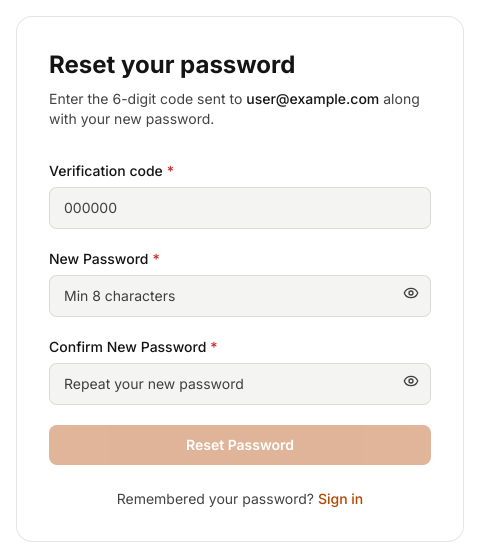
it: ResetPassword › sanitizes verification code input to numbers only and restricts submit button
Expected: the button "Reset Password" is disabled, [49,425,431,465]
Type "a1b2c3d" into the field labelled "Verification code*". click: (240, 208)
box: [49,187,431,229]
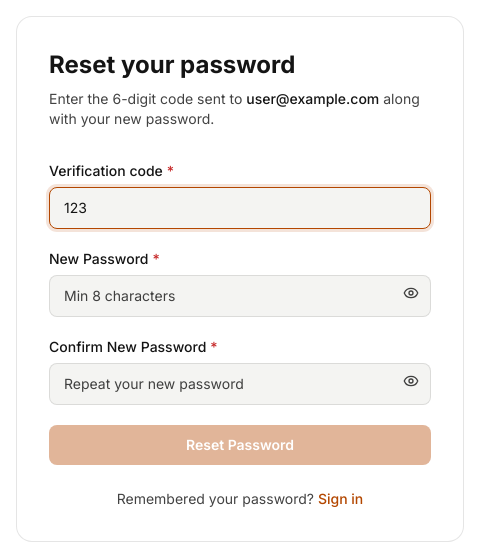
Expected: the button "Reset Password" is disabled, [49,425,431,465]
Expected: the field labelled "Verification code*" holds "123"
Type "456" into the field labelled "Verification code*". click: (240, 208)
box: [49,187,431,229]
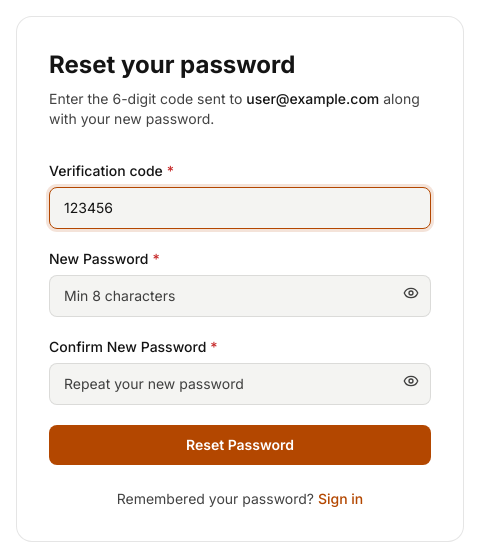
Expected: the field labelled "Verification code*" holds "123456", [49,187,431,229]
Expected: the button "Reset Password" is enabled, [49,425,431,465]
